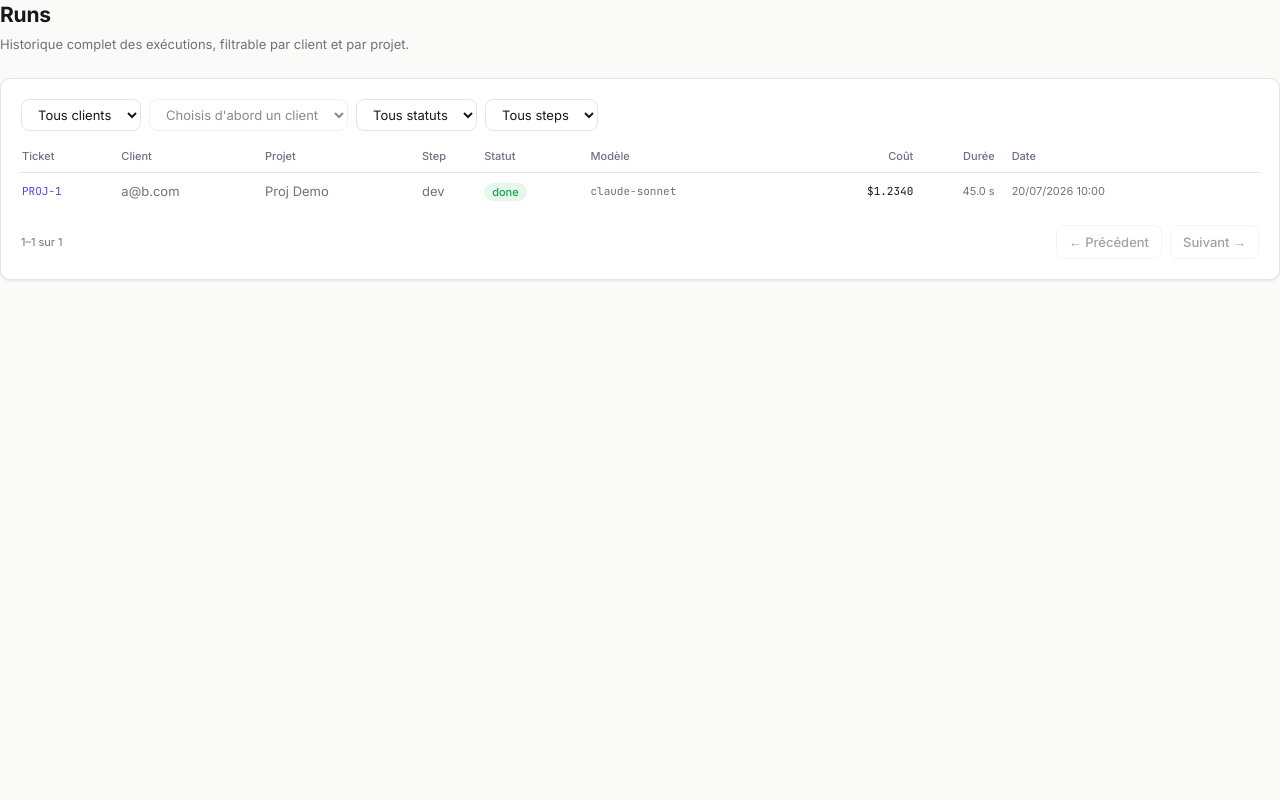
Scenario: AdminRunsPage › opens the run detail modal when a row is clicked
Click the button "PROJ-1" at (42,191), box [22, 183, 62, 199]
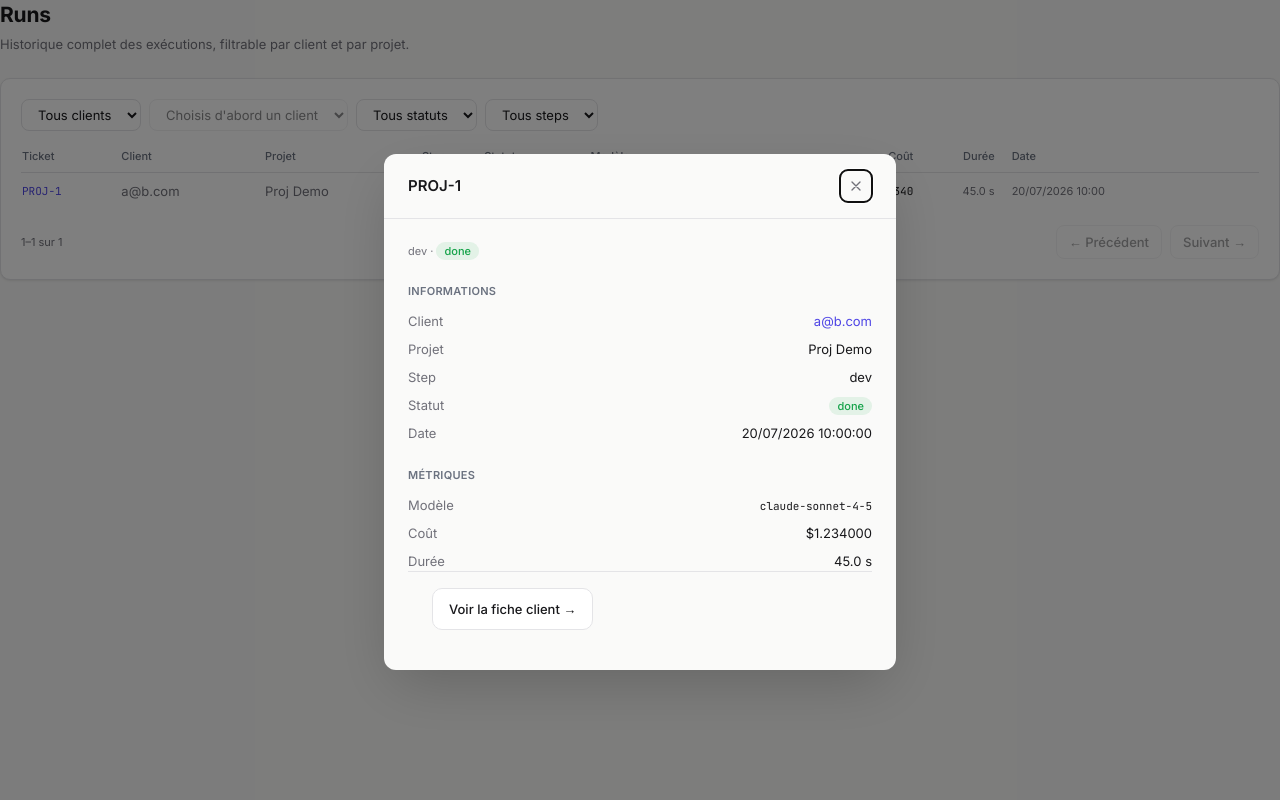
Check: the link "Voir la fiche client →" is shown, box [432, 588, 593, 630]
